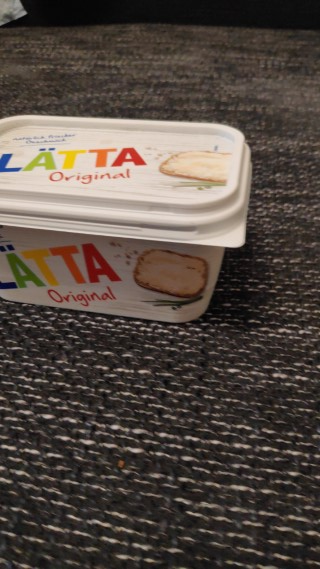laetta: (1, 113, 252, 324)
